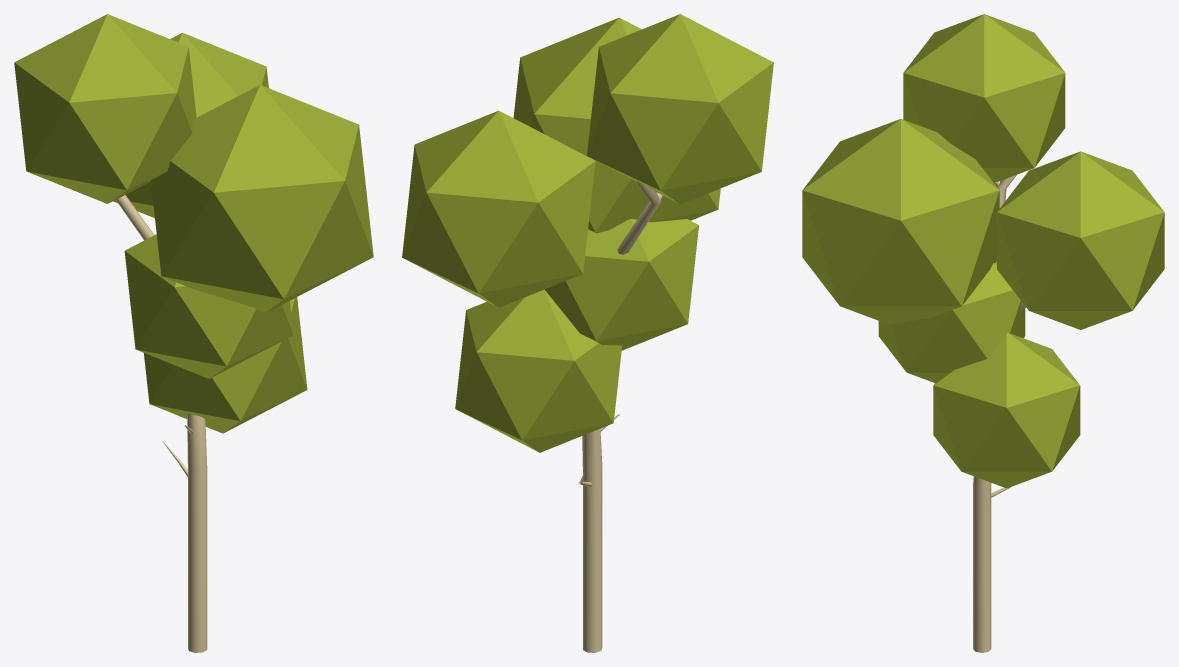
File: treesVisual.glb
3 views of the same model, side by side, from view 1: azimuth 30°, elevation 25°; view 2: azimuth 150°, elevation 25°; view 3: azimuth 270°, elevation 25° (orthographic). The views are drawn at different scales.
Parts seen in each view (by area): view 1: treeLeaves.001, treeLeaves.002, treeLeaves.004, treeLeaves.005, GN Instance, treeLeaves.003; view 2: treeLeaves.003, treeLeaves.002, treeLeaves.005, treeLeaves.004, treeLeaves.001, GN Instance; view 3: treeLeaves.001, treeLeaves.003, treeLeaves.002, treeLeaves.005, treeLeaves.004, GN Instance.
Boxes of the visible parts, bbox=[...] form: treeLeaves.001: bbox=[151, 85, 373, 312]; treeLeaves.002: bbox=[14, 14, 196, 203]; treeLeaves.004: bbox=[124, 234, 293, 378]; treeLeaves.005: bbox=[144, 297, 307, 433]; GN Instance: bbox=[116, 195, 207, 652]; treeLeaves.003: bbox=[113, 32, 268, 217]; treeLeaves.003: bbox=[402, 110, 595, 307]; treeLeaves.002: bbox=[587, 14, 773, 204]; treeLeaves.005: bbox=[455, 289, 621, 452]; treeLeaves.004: bbox=[544, 218, 698, 350]; treeLeaves.001: bbox=[513, 17, 720, 233]; GN Instance: bbox=[579, 181, 662, 652]; treeLeaves.001: bbox=[802, 119, 999, 324]; treeLeaves.003: bbox=[997, 151, 1164, 329]; treeLeaves.002: bbox=[903, 14, 1065, 181]; treeLeaves.005: bbox=[933, 332, 1080, 488]; treeLeaves.004: bbox=[878, 261, 1025, 382]; GN Instance: bbox=[973, 175, 1025, 652].
Size of the model in its own units: 4.26 by 9.09 by 5.01.
